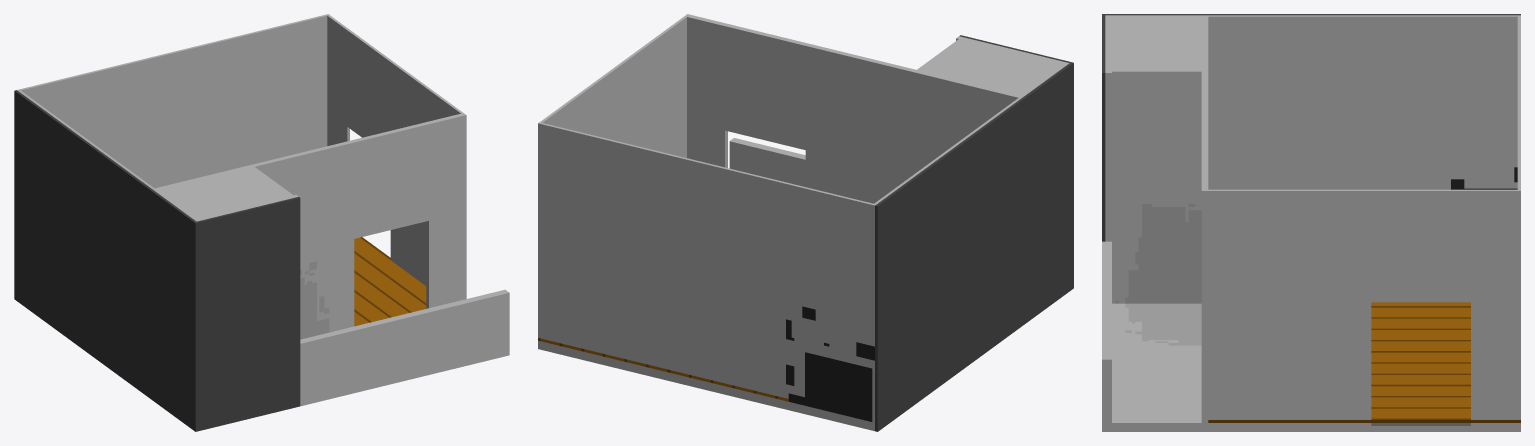
Rendered from 4x2 fourth (1)-7.obj.
3 views of the same model, side by side, from view 1: azimuth 30°, elevation 25°; view 2: azimuth 150°, elevation 25°; view 3: azimuth 270°, elevation 25° (orthographic). The views are drawn at different scales.
Visible parts, largest first — view 1: 4x2 fourth (1)-7; view 2: 4x2 fourth (1)-7; view 3: 4x2 fourth (1)-7.
Boxes of the visible parts, x1=… form: 4x2 fourth (1)-7: x1=14, y1=14, x2=509, y2=431; 4x2 fourth (1)-7: x1=538, y1=14, x2=1073, y2=431; 4x2 fourth (1)-7: x1=1102, y1=14, x2=1520, y2=431.
Size of the model in its own units: 126 by 80 by 126.
Materials: 1 (1 with a texture image).
